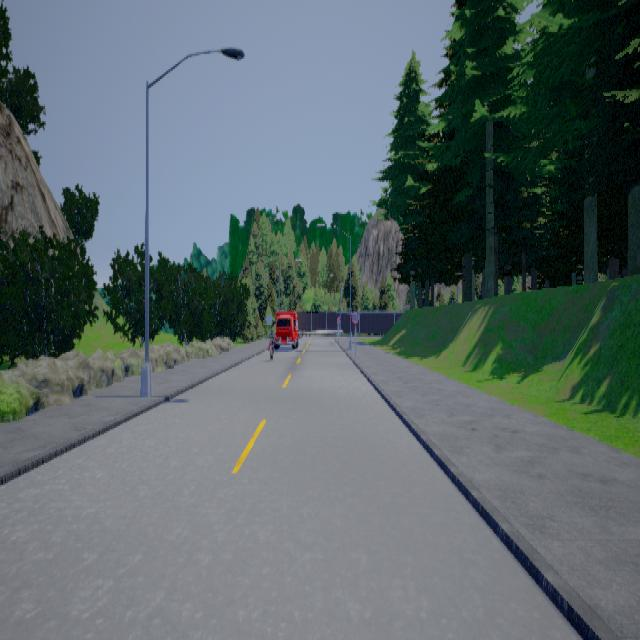traffic_sign: (349, 310, 360, 323)
vehicle: (273, 310, 298, 350)
